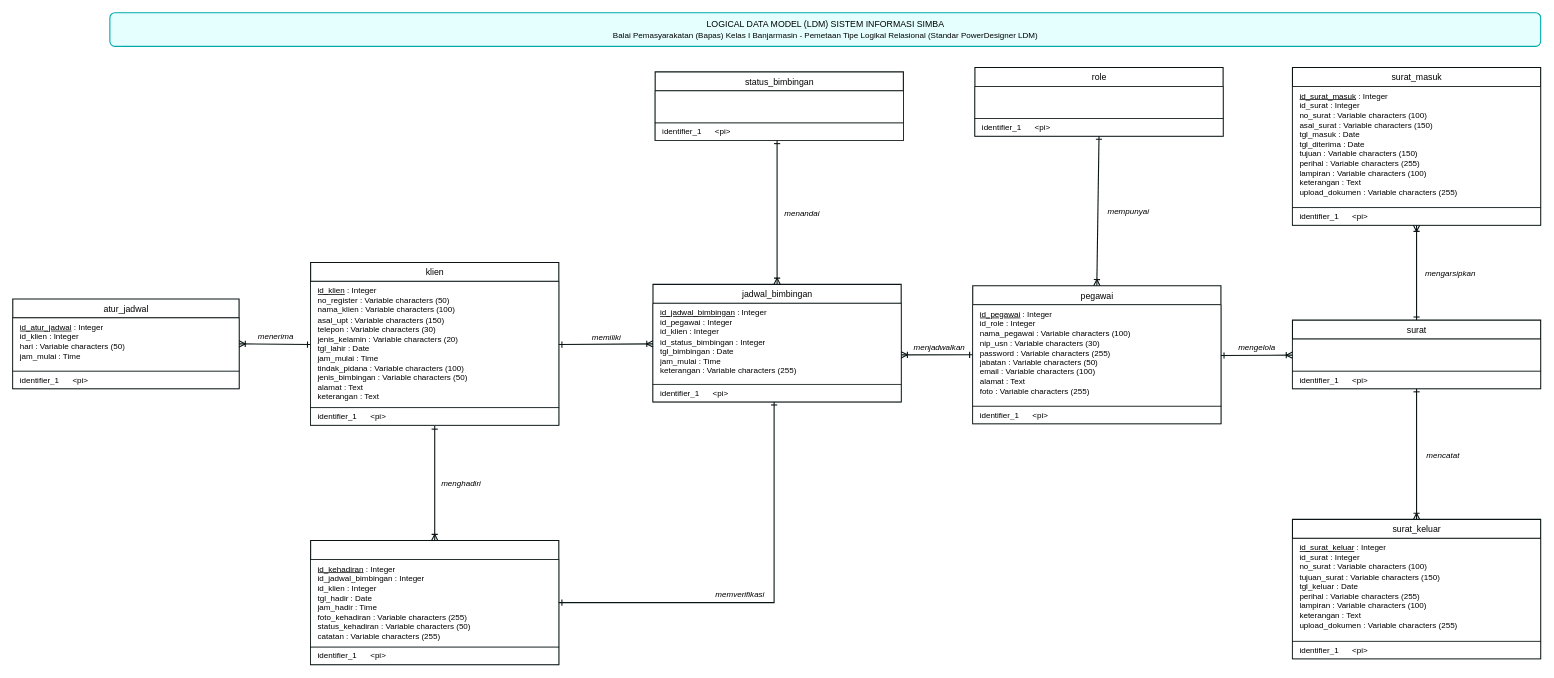
The diagram is 1554 pixels wide and 678 high, and some of its shapes have lost their labels. The box of each missing label's shape, as (x1, y1, x2, y2) in pixels:
id_role : Integer nama_role : Variable characters (50): (974, 86, 1223, 119)
id_status_bimbingan : Integer nama_status : Variable characters (50): (654, 90, 903, 123)
id_surat : Integer nama_surat : Variable characters (100): (1292, 338, 1541, 371)
kehadiran_klien: (310, 540, 559, 665)
